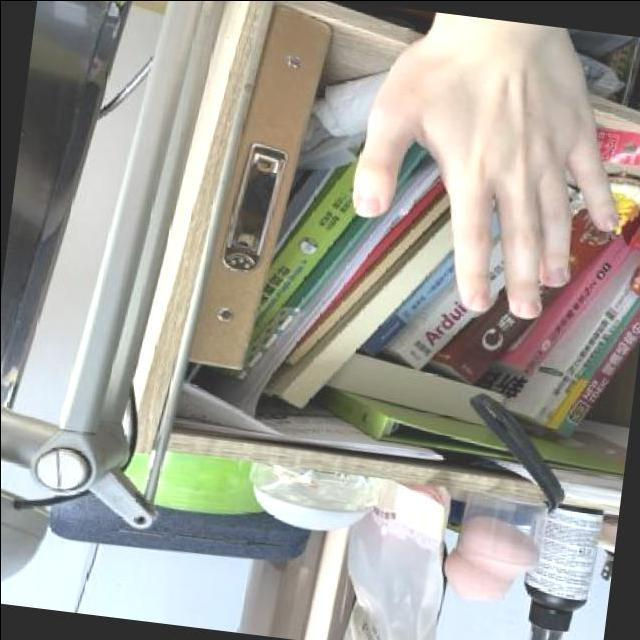hand: (327, 4, 640, 362)
